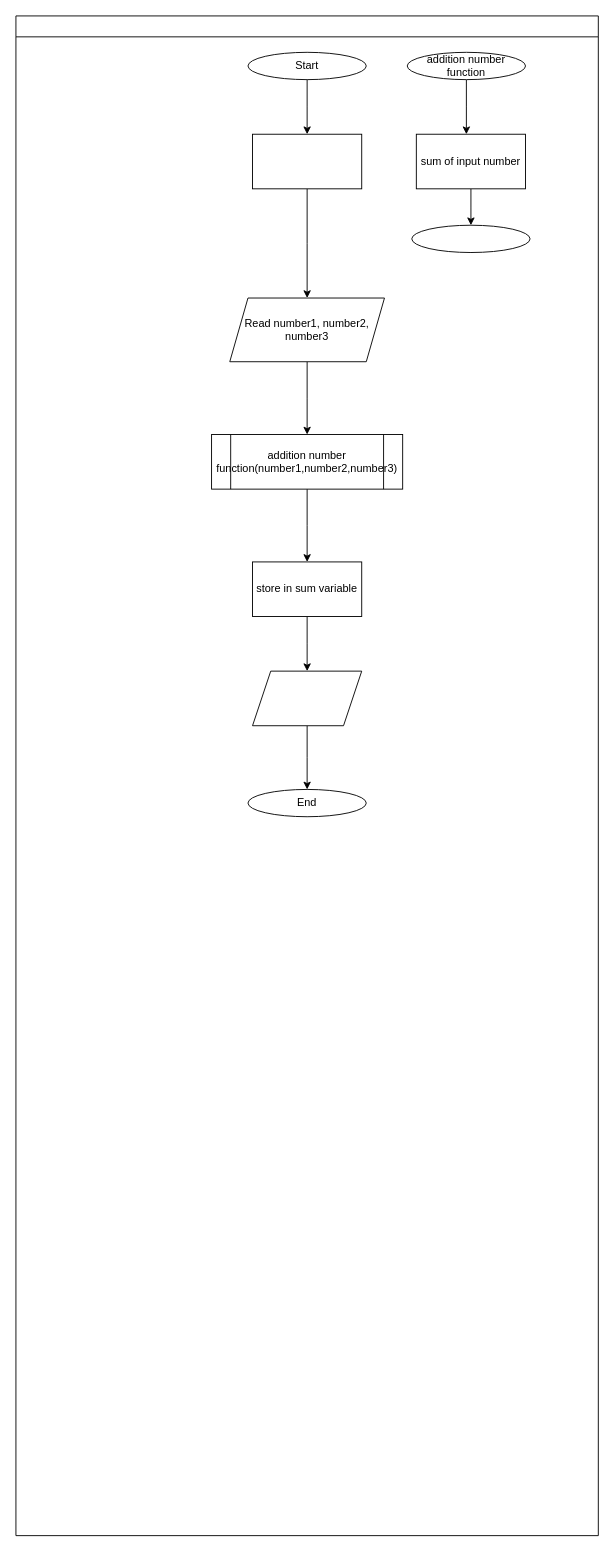
The diagram is 614 pixels wide and 1552 high, and some of its shapes have lost their labels. Each missing label, with the centre of its shape:
"Declare number1, number2 ,number3" belongs at point (307, 161).
"Display sum" belongs at point (307, 698).
"return sum" belongs at point (470, 238).
